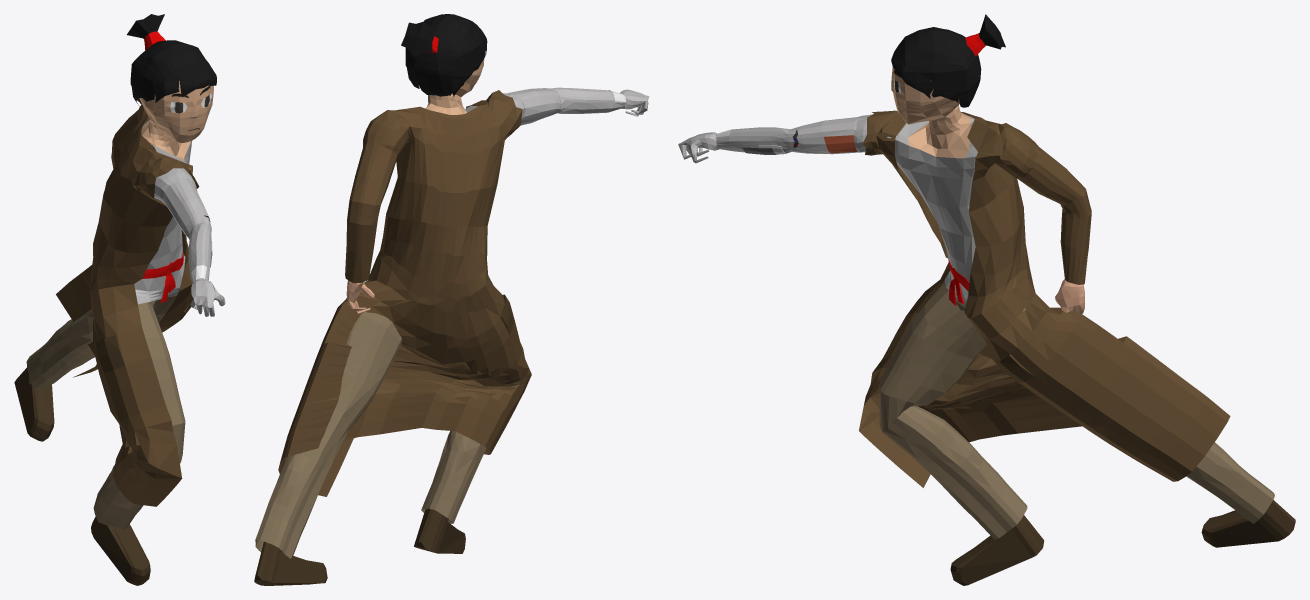
Rendered from OneAnimationTest_000011.obj.
The picture shows the model from 3 angles, left to right: view 1: azimuth 30°, elevation 25°; view 2: azimuth 150°, elevation 25°; view 3: azimuth 270°, elevation 25°; orthographic projection. The views are drawn at different scales.
Visible parts, largest first — view 1: Jacket_Cube, Body_Cube.003, Hair_Cube.004; view 2: Jacket_Cube, Body_Cube.003, Hair_Cube.004; view 3: Jacket_Cube, Body_Cube.003, Hair_Cube.004.
Boxes of the visible parts, x1,y1,x2,y2 form: Jacket_Cube: (56, 105, 199, 506); Body_Cube.003: (14, 81, 225, 585); Hair_Cube.004: (127, 14, 216, 106); Jacket_Cube: (278, 90, 531, 496); Body_Cube.003: (254, 59, 649, 585); Hair_Cube.004: (401, 14, 487, 96); Jacket_Cube: (859, 110, 1230, 487); Body_Cube.003: (678, 67, 1295, 585); Hair_Cube.004: (891, 14, 1005, 107).
Size of the model in its own units: 1.08 by 3.64 by 3.53.
